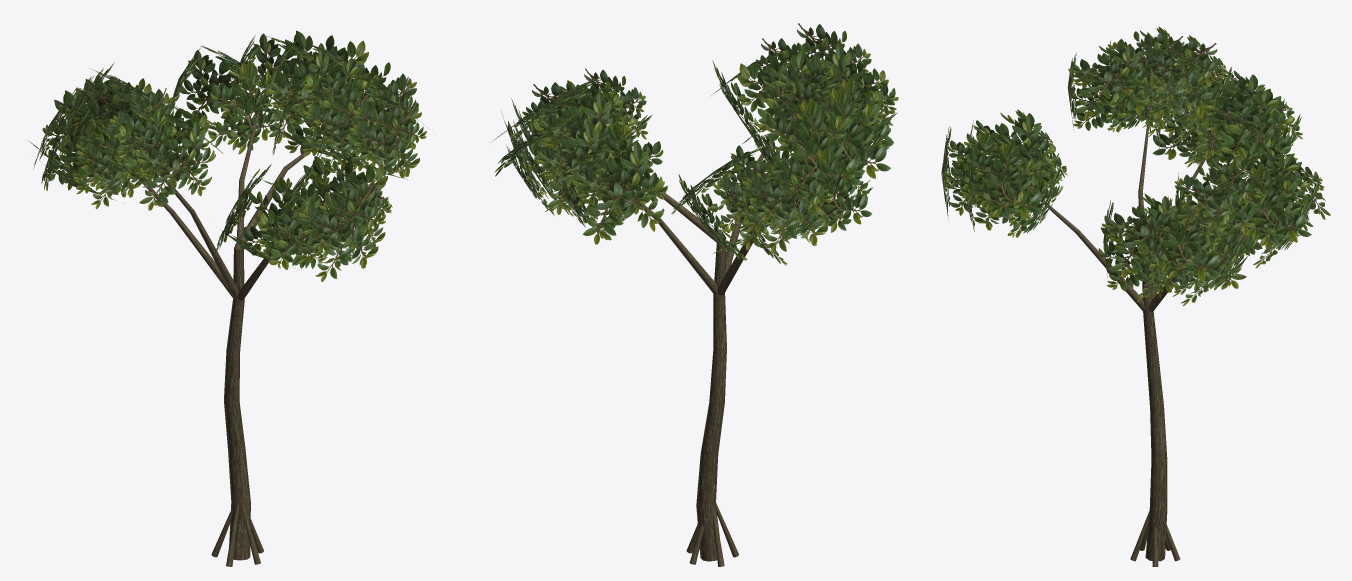
The model's file is tree_lod_01.glb.
The picture shows the model from 3 angles, left to right: view 1: azimuth 30°, elevation 25°; view 2: azimuth 150°, elevation 25°; view 3: azimuth 270°, elevation 25°; orthographic projection. The views are drawn at different scales.
Parts seen in each view (by area): view 1: tree_lod_01; view 2: tree_lod_01; view 3: tree_lod_01.
Part boxes in pixels (x1,y1,x2,y2): tree_lod_01: (29, 30, 427, 566); tree_lod_01: (492, 23, 898, 566); tree_lod_01: (941, 27, 1330, 566).
Size of the model in its own units: 9.37 by 11.85 by 9.03.
2 materials, 2 textured.
